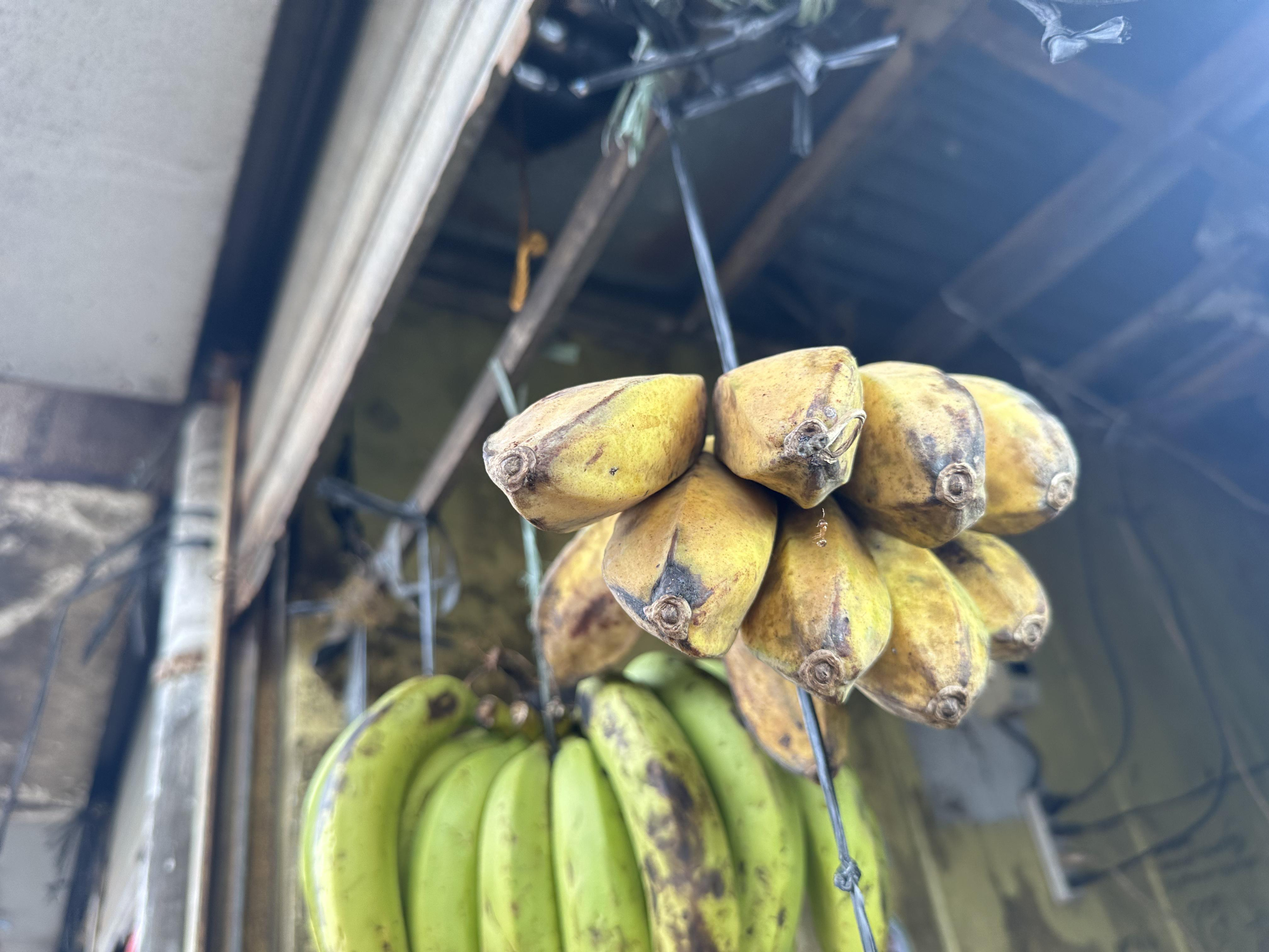ripe: (483, 348, 1079, 776)
